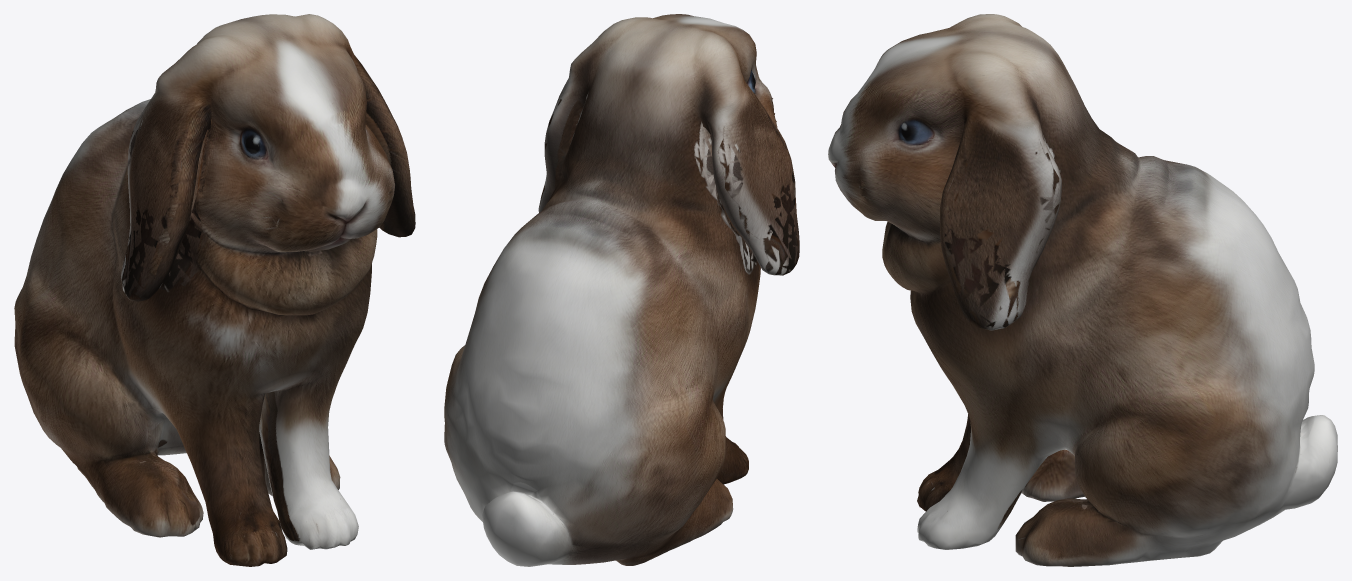
The model's file is Meshy_AI_Bella_0505095211_texture.fbx.
3 views of the same model, side by side, from view 1: azimuth 30°, elevation 25°; view 2: azimuth 150°, elevation 25°; view 3: azimuth 270°, elevation 25° (orthographic). The views are drawn at different scales.
Visible parts, largest first — view 1: Mesh1.0; view 2: Mesh1.0; view 3: Mesh1.0.
Boxes of the visible parts, bbox=[...] form: Mesh1.0: bbox=[14, 14, 415, 566]; Mesh1.0: bbox=[444, 14, 799, 566]; Mesh1.0: bbox=[828, 14, 1337, 566].
Size of the model in its own units: 112 by 191 by 182.
Materials: 1 (1 with a texture image).
